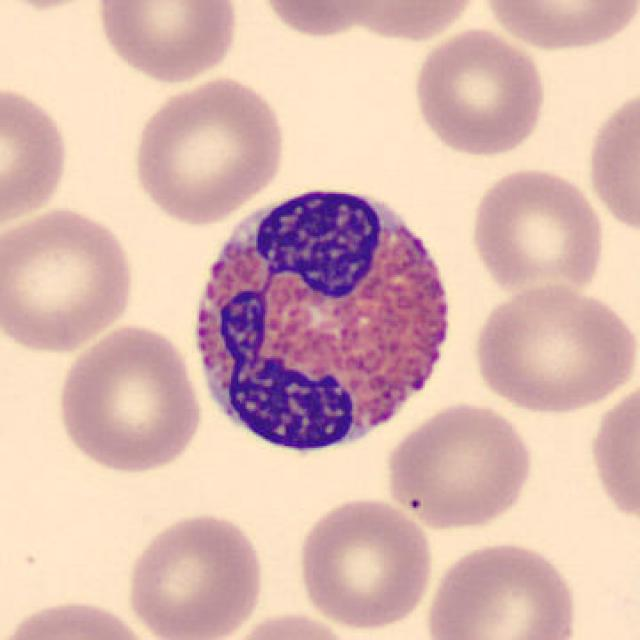Eosinophil: (178, 165, 468, 472)
RBC: (126, 74, 290, 226), (52, 321, 206, 476), (468, 279, 636, 416), (0, 202, 140, 356), (381, 398, 538, 532), (294, 494, 436, 631), (466, 164, 608, 300), (121, 508, 267, 640), (409, 24, 549, 158), (422, 536, 582, 640), (90, 0, 244, 85), (0, 79, 73, 231), (583, 80, 638, 243), (476, 0, 638, 55), (587, 374, 638, 530), (2, 594, 158, 640), (332, 0, 485, 42), (250, 0, 388, 41), (220, 608, 362, 640), (0, 0, 114, 14)
